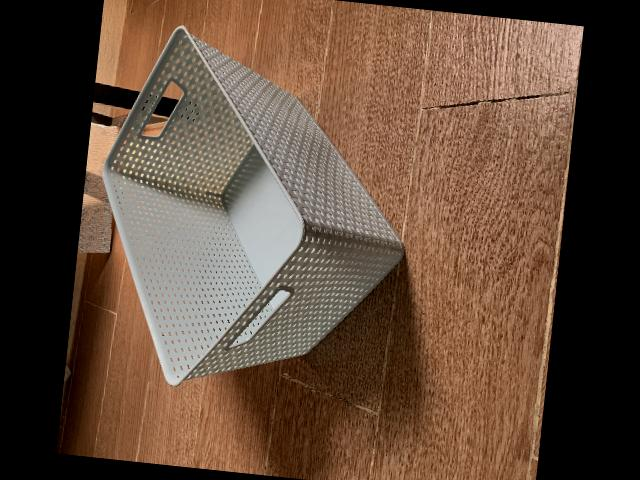cart: (103, 25, 407, 386)
